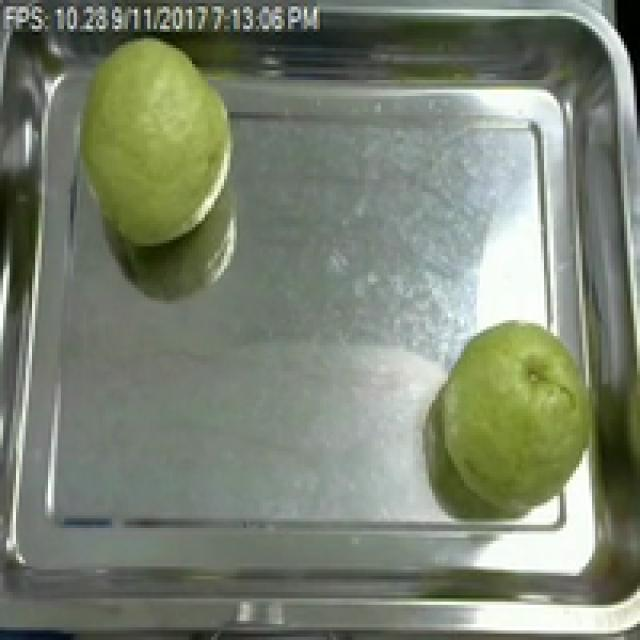Fruit: (48, 29, 246, 256), (422, 311, 608, 518)
